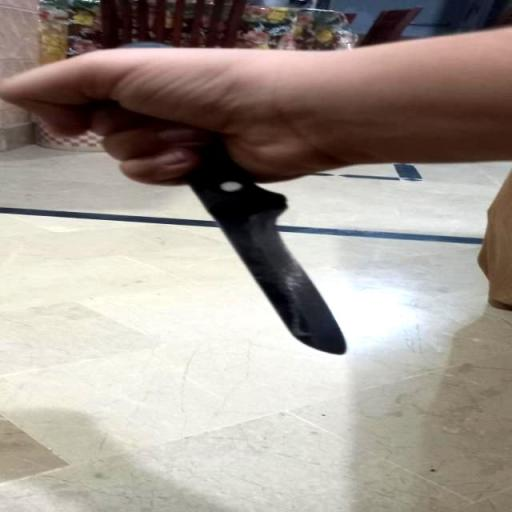knife: (20, 62, 353, 360)
